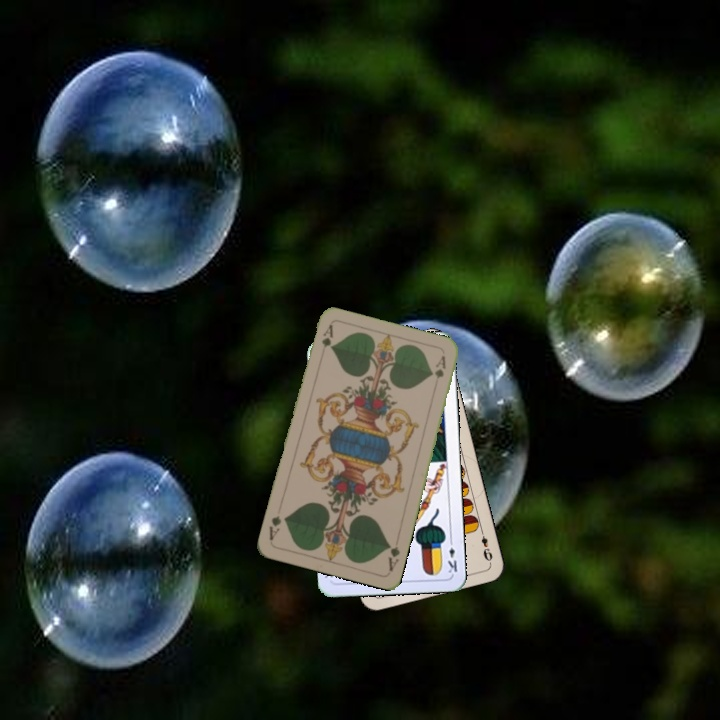E9: (477, 525, 495, 565)
EK: (444, 535, 460, 575)
GA: (384, 540, 403, 574), (317, 321, 335, 350)
